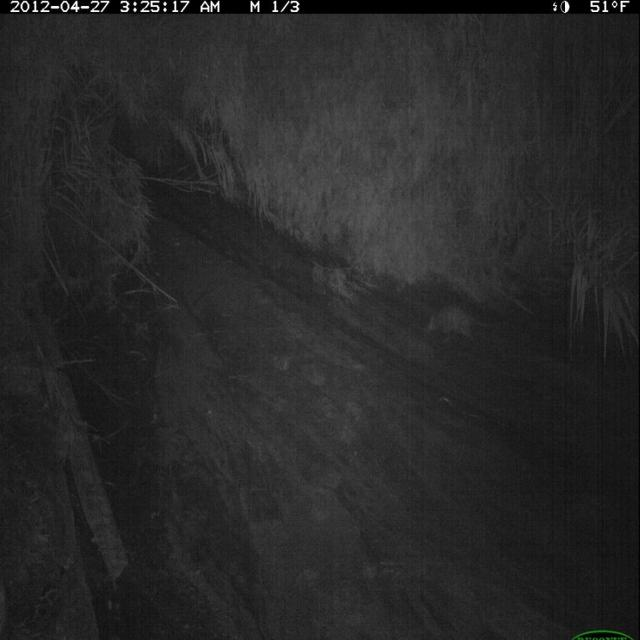opossum: (423, 301, 504, 349)
